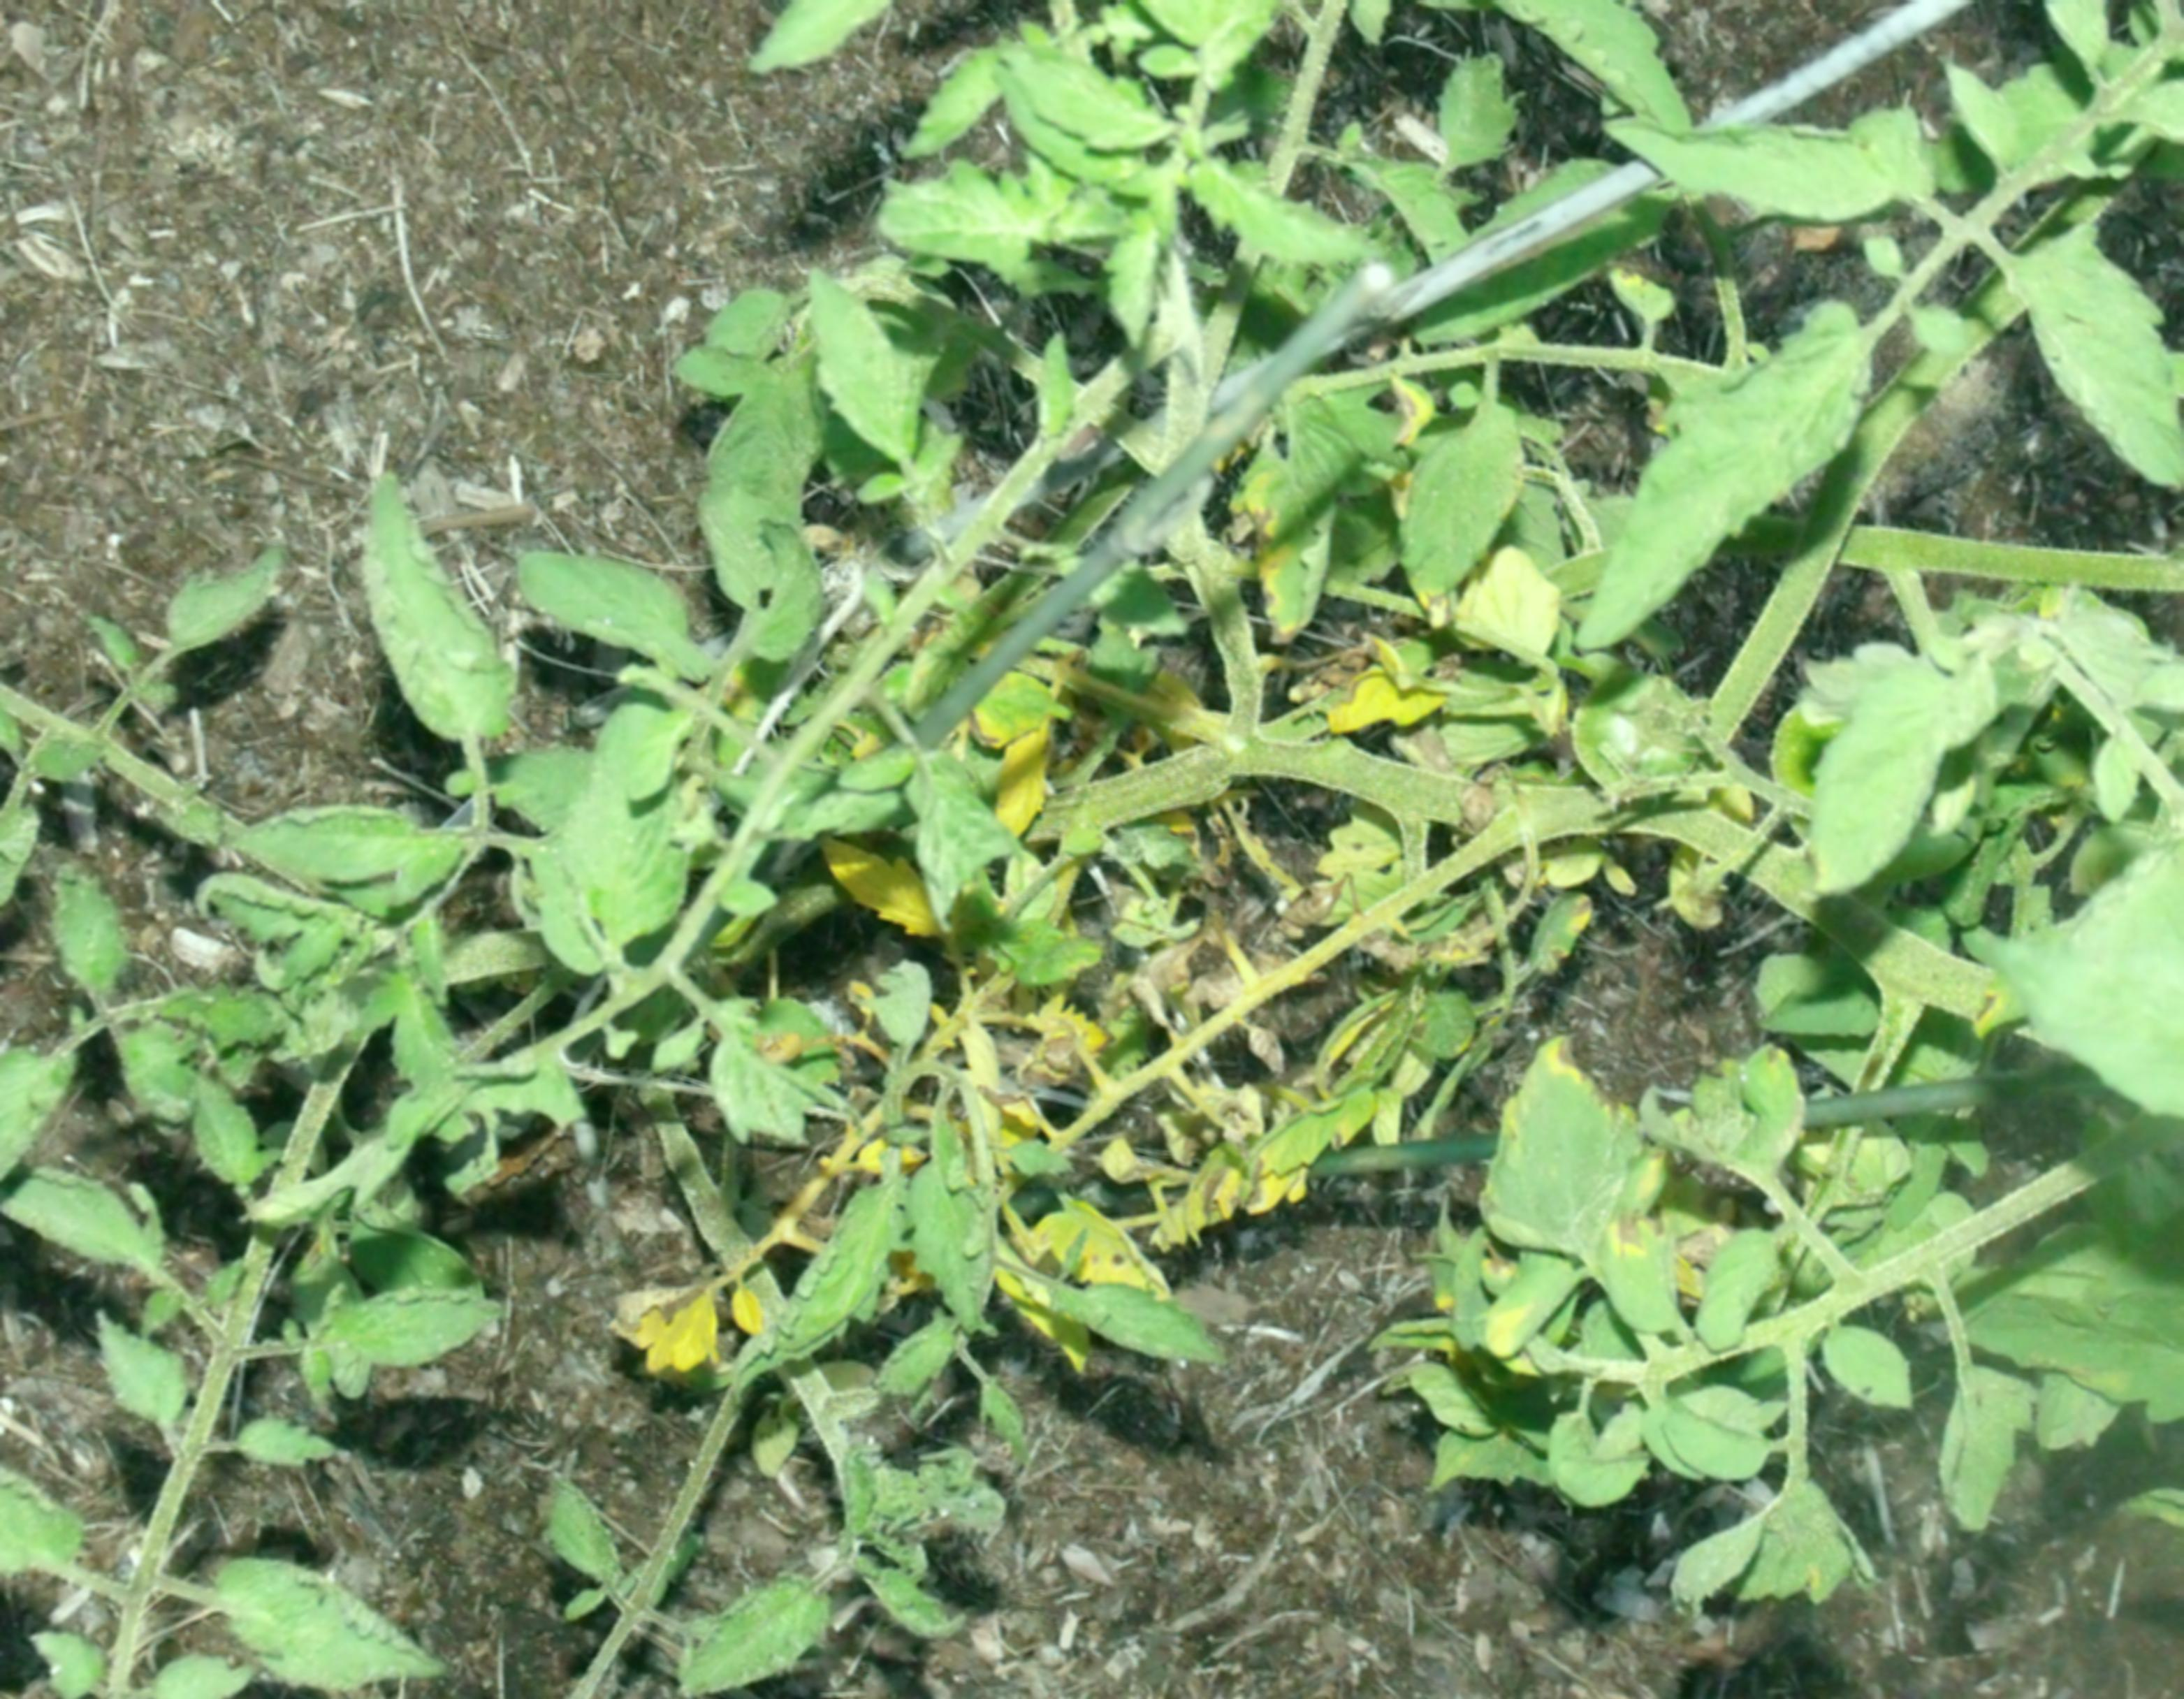Tomato leaf bacterial spot: (1594, 294, 1895, 654), (1583, 78, 1962, 241), (1794, 612, 1994, 908), (1200, 380, 1397, 654), (1455, 1041, 1682, 1277), (856, 135, 1186, 293), (766, 273, 989, 500), (2028, 190, 2184, 502), (498, 534, 750, 718), (760, 1119, 927, 1390), (1356, 390, 1533, 638), (1661, 995, 1810, 1227)
